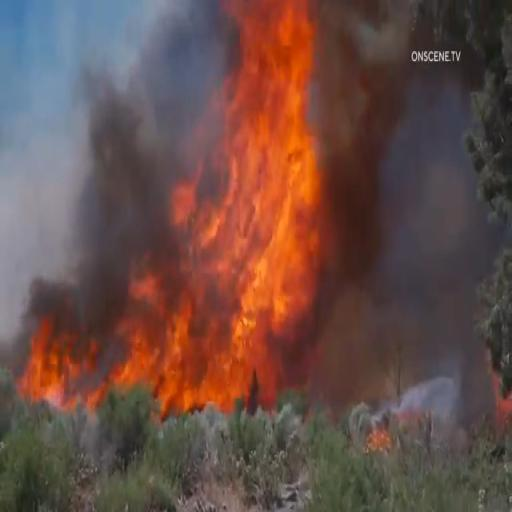fire: (124, 0, 324, 380), (5, 257, 328, 405)
smoke: (370, 102, 484, 396), (8, 43, 117, 246)
